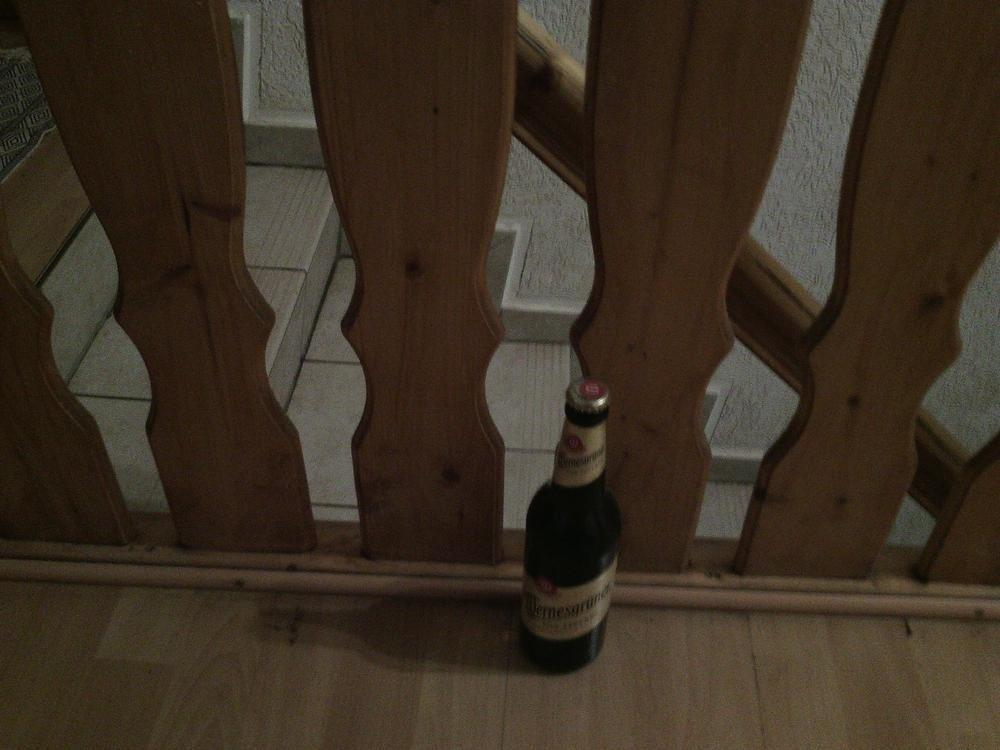bottle-glass: (516, 376, 626, 677)
